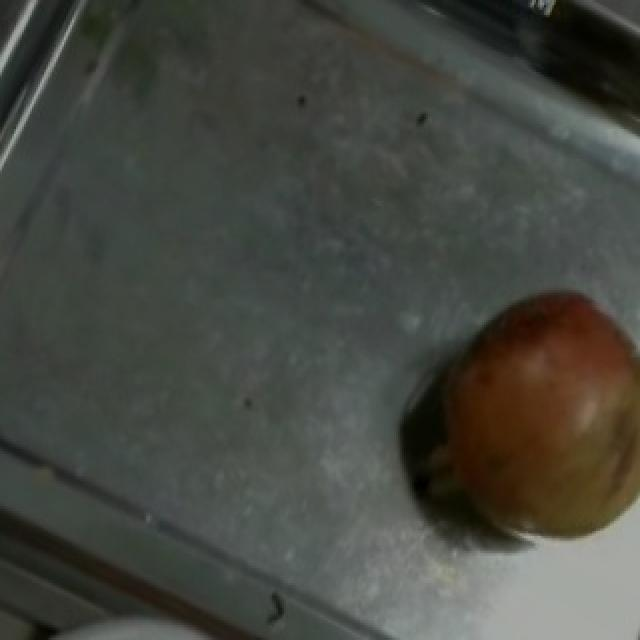fruit: (410, 258, 640, 531)
